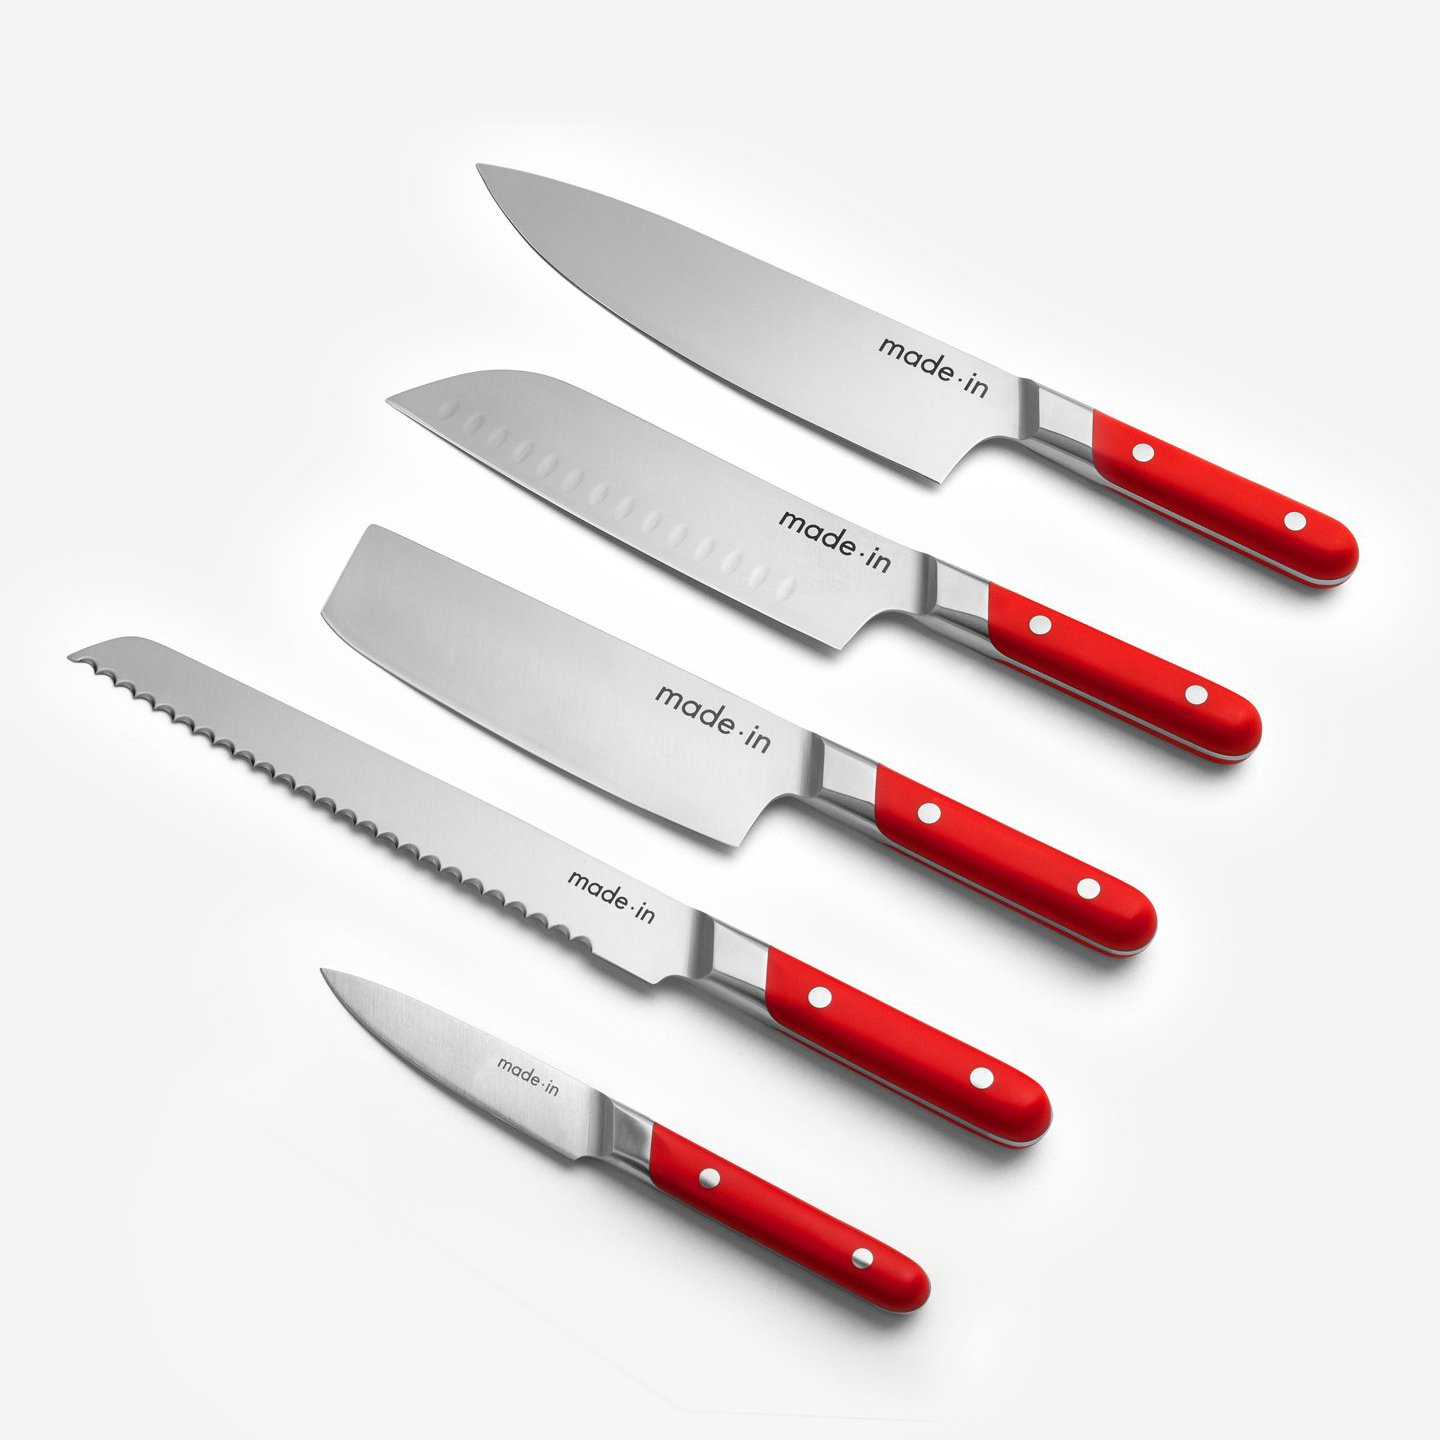knife: (52, 634, 1053, 1151), (474, 160, 1351, 596), (314, 524, 1158, 956), (382, 364, 1264, 771), (321, 971, 933, 1315)
